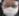with_mask: (2, 2, 19, 16)
